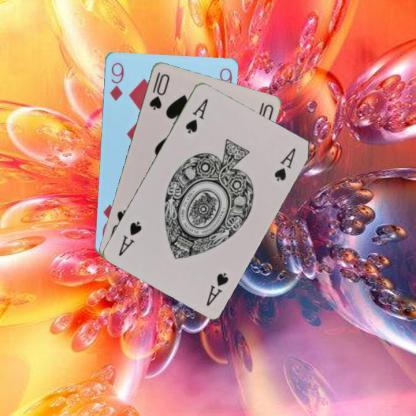10s: (146, 69, 171, 111)
9d: (107, 60, 125, 102)
As: (182, 95, 210, 135), (203, 270, 230, 308)
